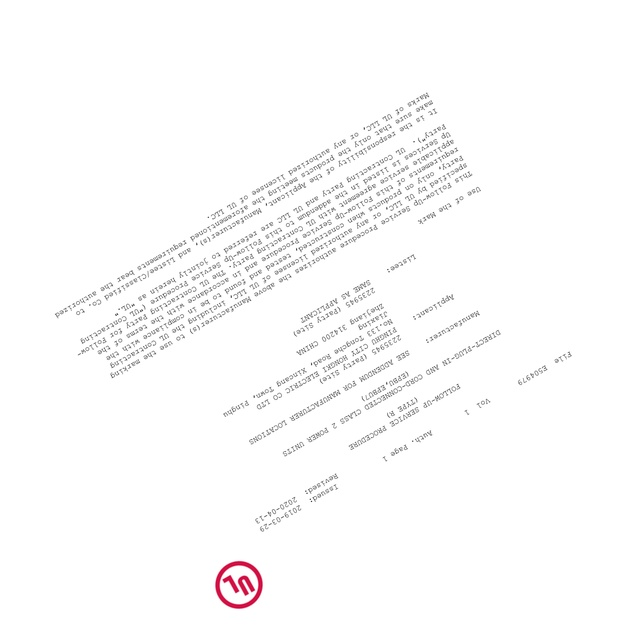ul: (215, 561, 263, 610)
